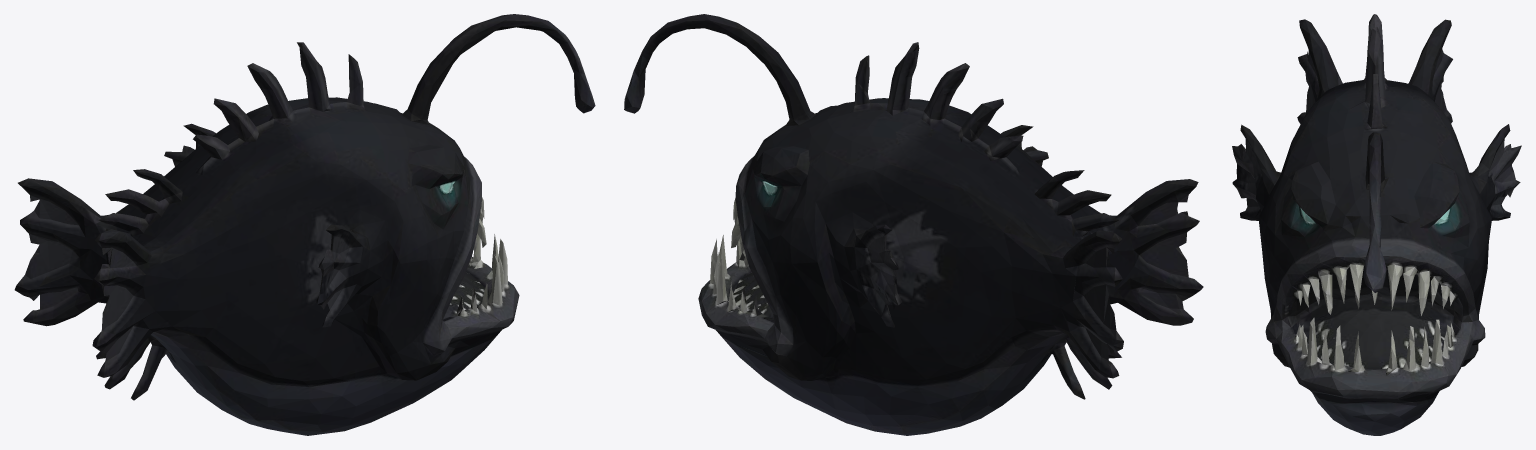
The model's file is foe_angler.glb.
The picture shows the model from 3 angles, left to right: view 1: azimuth 30°, elevation 25°; view 2: azimuth 150°, elevation 25°; view 3: azimuth 270°, elevation 25°; orthographic projection. The views are drawn at different scales.
Visible parts, largest first — view 1: tripo_node_d061108b-fd84-4e65-9372-53140334b30f.001; view 2: tripo_node_d061108b-fd84-4e65-9372-53140334b30f.001; view 3: tripo_node_d061108b-fd84-4e65-9372-53140334b30f.001.
Part boxes in pixels (bbox=[...]): tripo_node_d061108b-fd84-4e65-9372-53140334b30f.001: bbox=[14, 14, 595, 435]; tripo_node_d061108b-fd84-4e65-9372-53140334b30f.001: bbox=[624, 14, 1203, 435]; tripo_node_d061108b-fd84-4e65-9372-53140334b30f.001: bbox=[1232, 14, 1521, 435].
Bounding box in the file's own units: 0.9962 × 0.6889 × 0.4914.
1 material, 1 textured.
